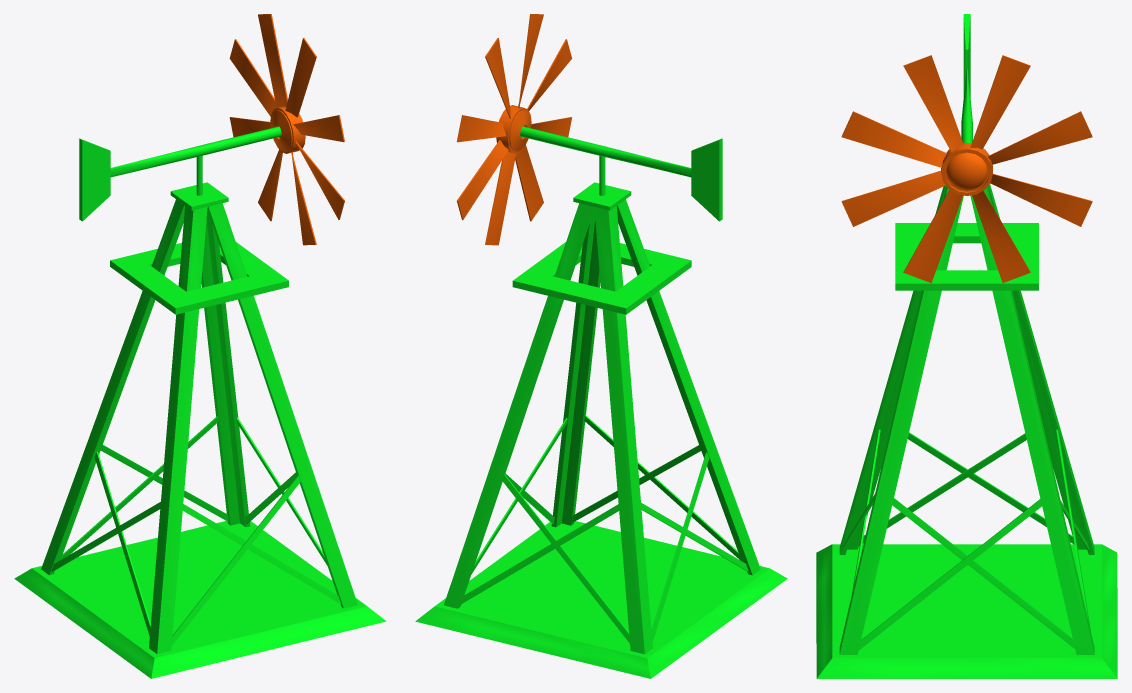
Rendered from BreathingTerminalWithBone.fbx.
The picture shows the model from 3 angles, left to right: view 1: azimuth 30°, elevation 25°; view 2: azimuth 150°, elevation 25°; view 3: azimuth 270°, elevation 25°; orthographic projection. The views are drawn at different scales.
Parts seen in each view (by area): view 1: BT Base, Bone002; view 2: BT Base, Bone002; view 3: BT Base, Bone002.
Boxes of the visible parts, x1,y1,x2,y2 form: BT Base: [14, 126, 386, 678]; Bone002: [229, 14, 344, 245]; BT Base: [415, 126, 787, 678]; Bone002: [456, 14, 571, 245]; BT Base: [816, 14, 1117, 678]; Bone002: [841, 55, 1092, 282].
Size of the model in its own units: 83.71 by 186 by 83.77.
